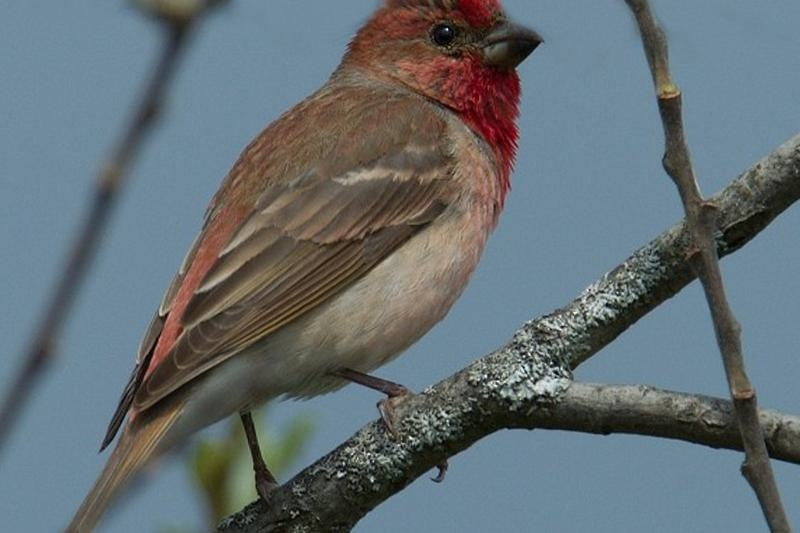rosefinch: (124, 1, 554, 439)
